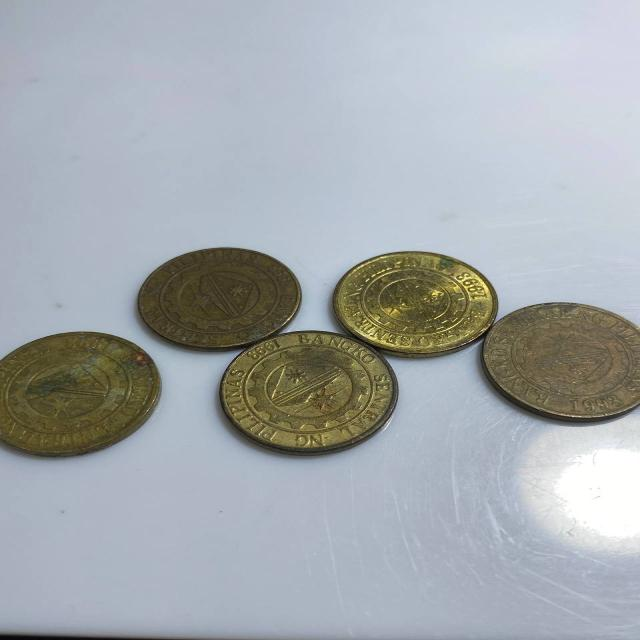25Cent_Old_Back: (215, 331, 386, 447), (486, 297, 638, 417), (3, 340, 156, 454), (132, 246, 292, 342), (336, 255, 487, 352)
